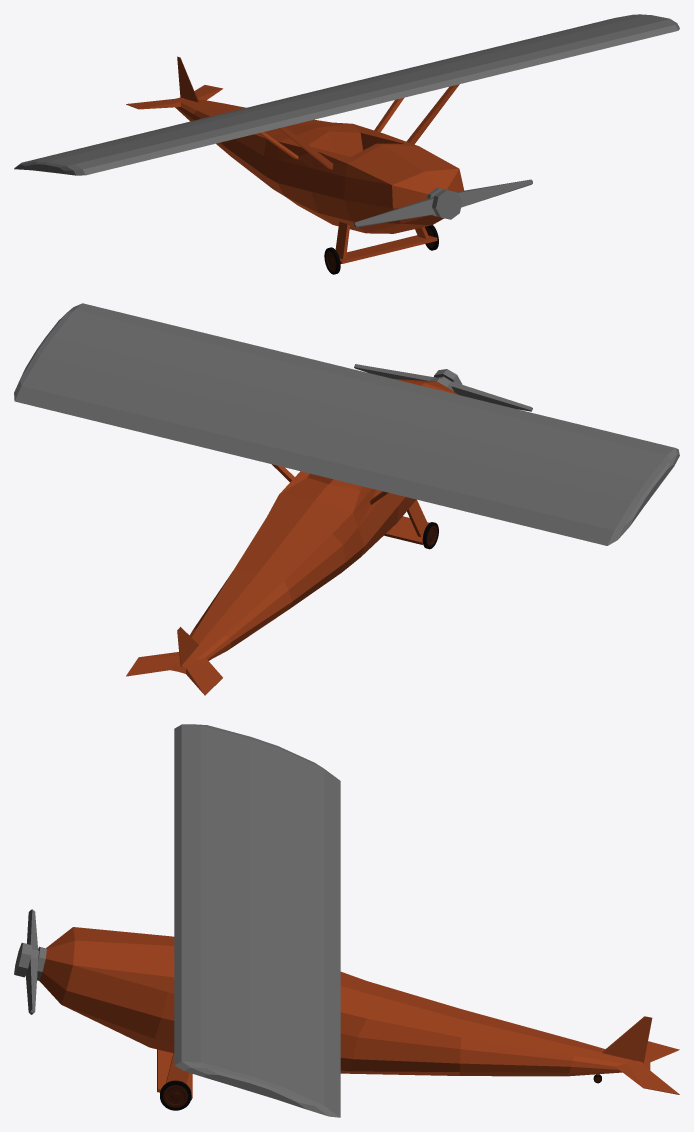
3 views of the same model, one above another, from view 1: azimuth 30°, elevation 25°; view 2: azimuth 150°, elevation 25°; view 3: azimuth 270°, elevation 25° (orthographic). The views are drawn at different scales.
Visible parts, largest first — view 1: Plane, Propeller; view 2: Plane, Propeller; view 3: Plane, Propeller.
Part boxes in pixels (left/top/right/bottom): Plane: left=14, top=14, right=679, bottom=274; Propeller: left=354, top=179, right=532, bottom=227; Plane: left=14, top=303, right=679, bottom=695; Propeller: left=354, top=364, right=532, bottom=411; Plane: left=39, top=724, right=679, bottom=1117; Propeller: left=14, top=909, right=46, bottom=1014.
Size of the model in its own units: 1533 by 391 by 1246.
